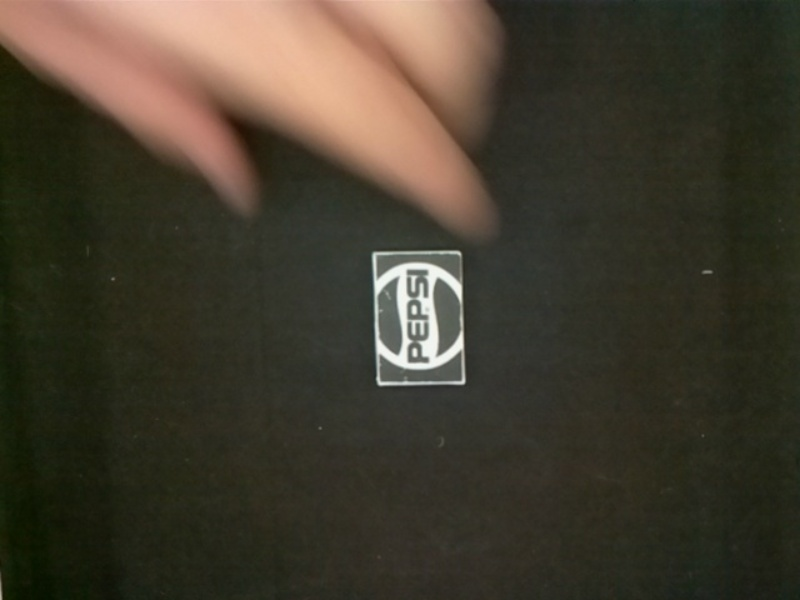pepsi: (369, 247, 467, 388)
